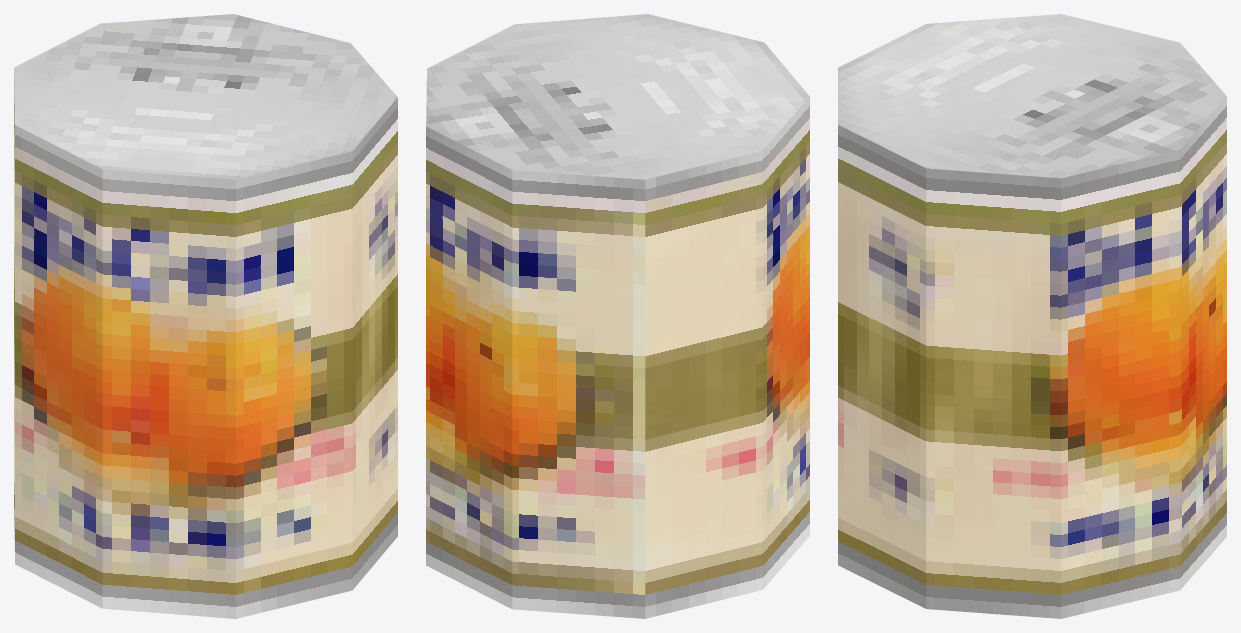
Rendered from food_canned_soup_6.glb.
3 views of the same model, side by side, from view 1: azimuth 30°, elevation 25°; view 2: azimuth 150°, elevation 25°; view 3: azimuth 270°, elevation 25° (orthographic).
Visible parts, largest first — view 1: Food_Canned_Soup_6; view 2: Food_Canned_Soup_6; view 3: Food_Canned_Soup_6.
Part boxes in pixels (x1=…): Food_Canned_Soup_6: x1=14, y1=14, x2=397, y2=618; Food_Canned_Soup_6: x1=426, y1=14, x2=809, y2=618; Food_Canned_Soup_6: x1=838, y1=14, x2=1226, y2=618.
Bounding box in the file's own units: 0.1016 × 0.127 × 0.1016.
Materials: 1 (1 with a texture image).
